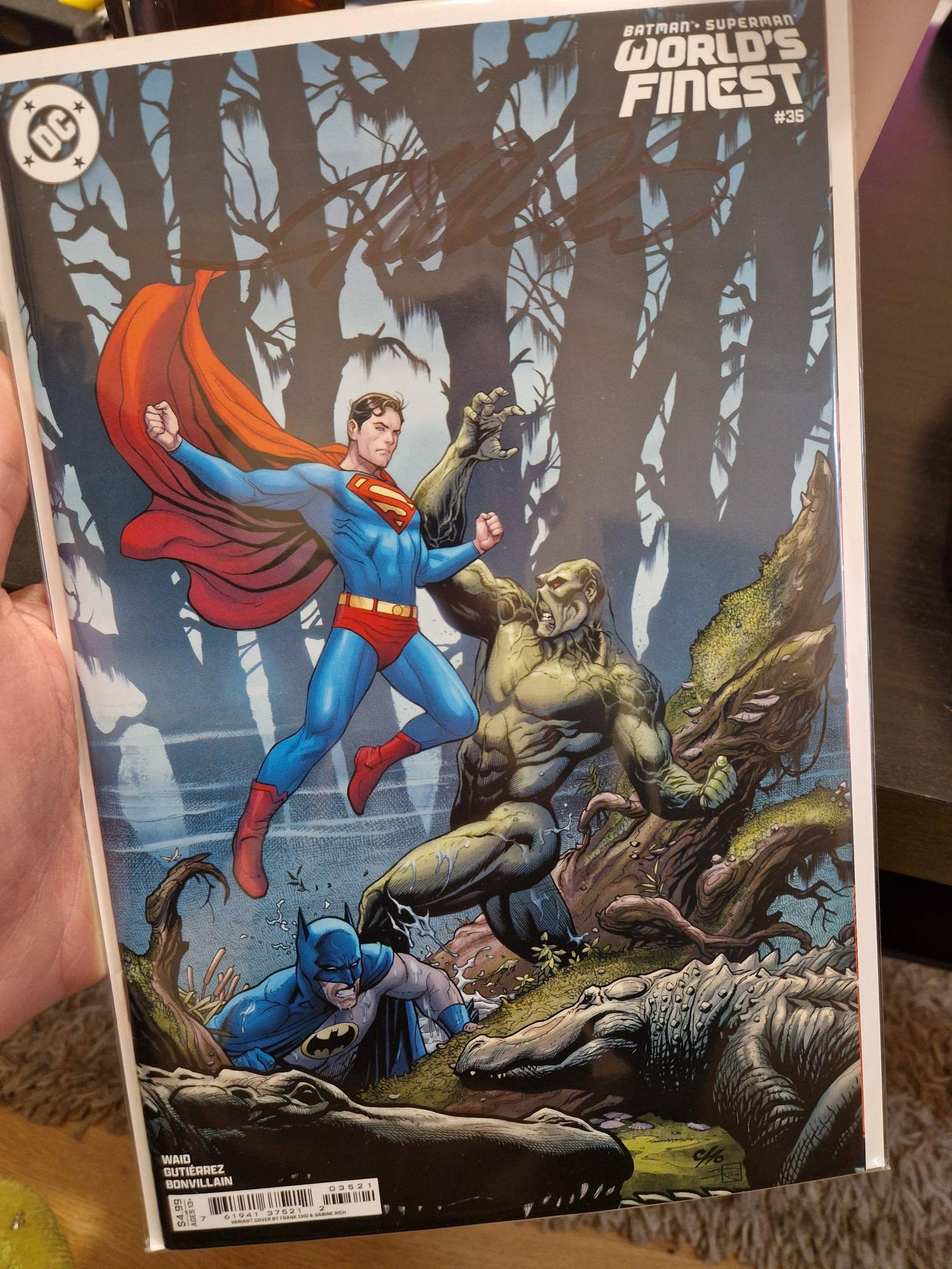comic: (0, 0, 902, 1253)
